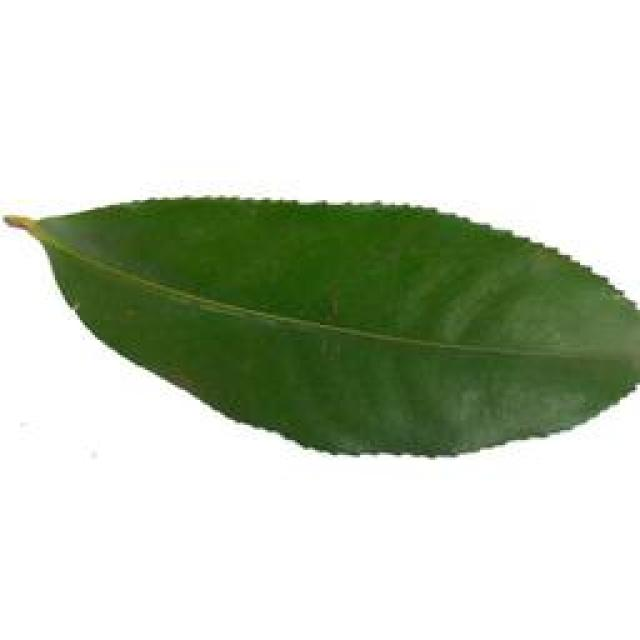Healthy: (6, 183, 640, 491)
